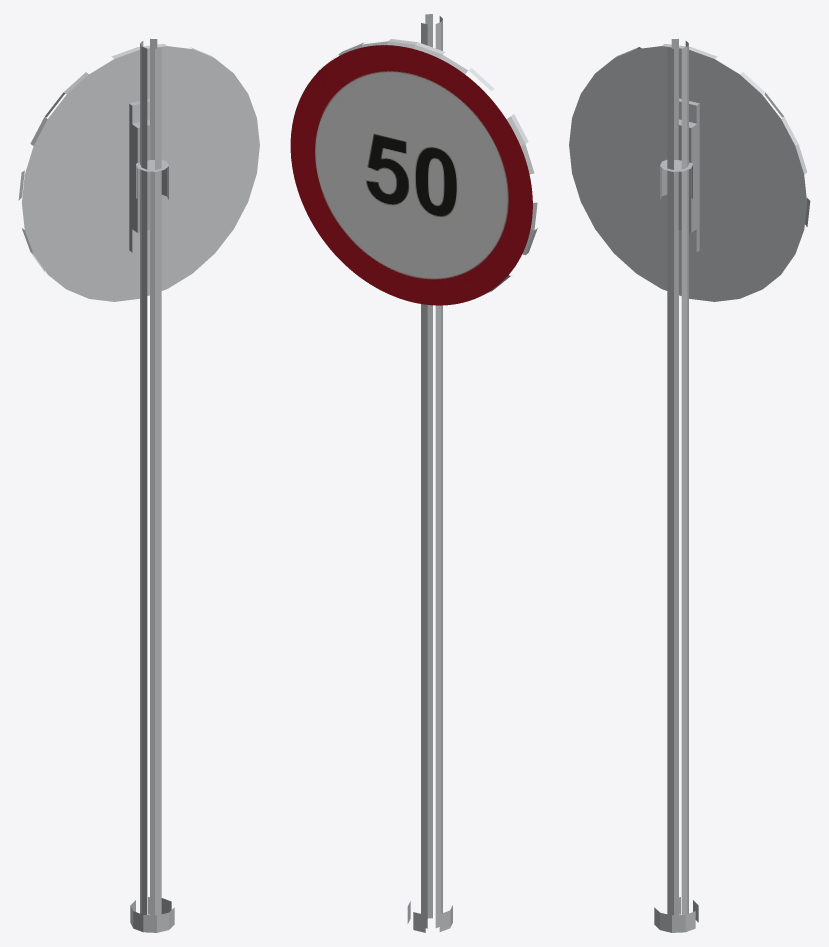
The model's file is sign_speed_limit_50.glb.
The picture shows the model from 3 angles, left to right: view 1: azimuth 30°, elevation 25°; view 2: azimuth 150°, elevation 25°; view 3: azimuth 330°, elevation 25°; orthographic projection. The views are drawn at different scales.
Parts seen in each view (by area): view 1: sign_speed_limit_50; view 2: sign_speed_limit_50; view 3: sign_speed_limit_50.
Boxes of the visible parts, box(x1,y1,x2,y2) form: sign_speed_limit_50: box(18, 38, 259, 932); sign_speed_limit_50: box(290, 14, 537, 932); sign_speed_limit_50: box(569, 38, 810, 932).
Size of the model in its own units: 0.72 by 2.52 by 0.1487.
5 materials, 1 textured.
